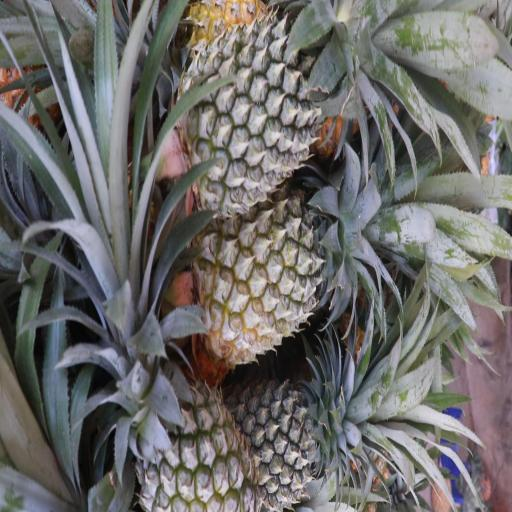------------------------------: (199, 206, 347, 360)
